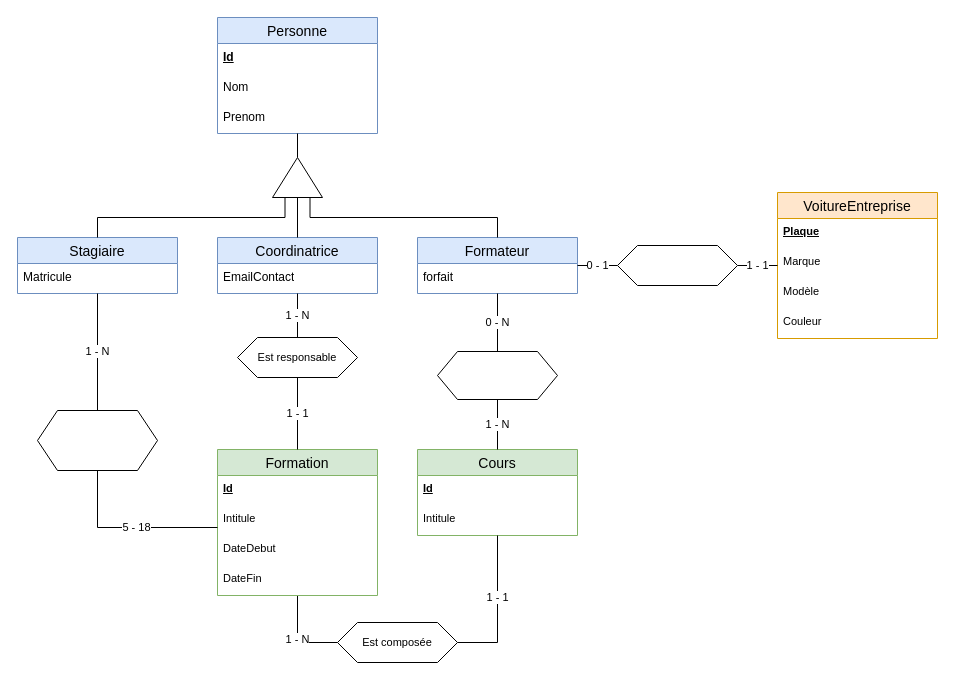
Image size: 955x680. Some labels were removed from this diagram. The shapes that lost their labels are listed below. From the top down, each one's centre as x and y in pixels, then its label:
At point (297, 177): "P, E".
At point (677, 265): "Possède".
At point (497, 375): "Dispense Date".
At point (97, 440): "Suit dateDebut dateFin [ 0 - 1 ]".
